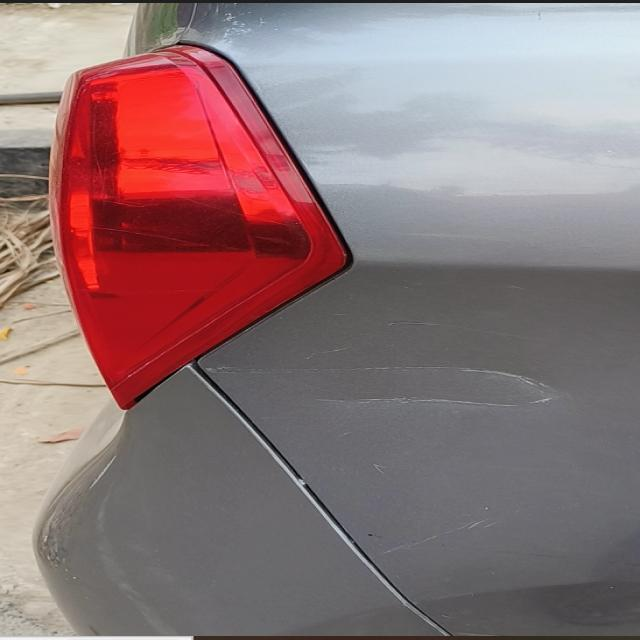scratch: (208, 316, 577, 420), (373, 506, 533, 558), (359, 457, 419, 482)
